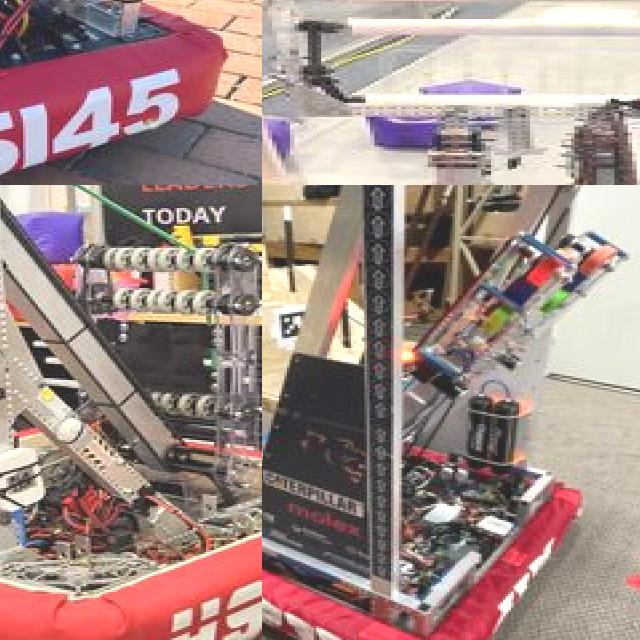FRC-Robots: (262, 185, 640, 640), (0, 185, 262, 640), (262, 0, 640, 185), (0, 0, 262, 185)
